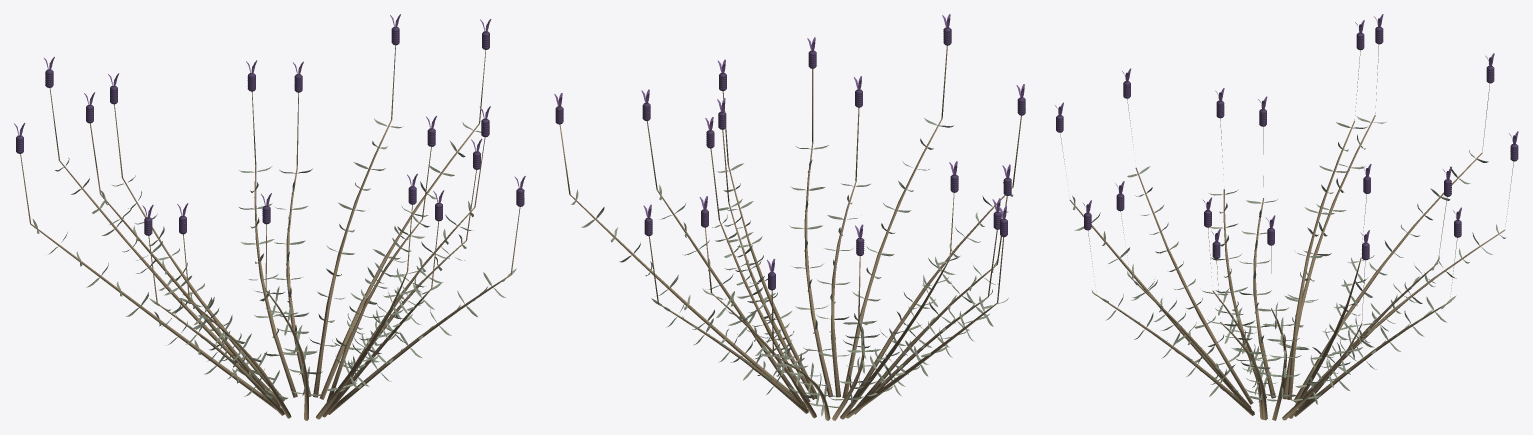
File: Lavande_2_Niveau0.fbx
The picture shows the model from 3 angles, left to right: view 1: azimuth 30°, elevation 25°; view 2: azimuth 150°, elevation 25°; view 3: azimuth 270°, elevation 25°; orthographic projection. The views are drawn at different scales.
Visible parts, largest first — view 1: Lavande_2_Niveau0_Jeu; view 2: Lavande_2_Niveau0_Jeu; view 3: Lavande_2_Niveau0_Jeu.
Part boxes in pixels (left/top/right/bottom): Lavande_2_Niveau0_Jeu: left=14, top=14, right=525, bottom=420; Lavande_2_Niveau0_Jeu: left=554, top=14, right=1025, bottom=420; Lavande_2_Niveau0_Jeu: left=1055, top=14, right=1518, bottom=420.
Bounding box in the file's own units: 91.32 × 60.47 × 82.35.
